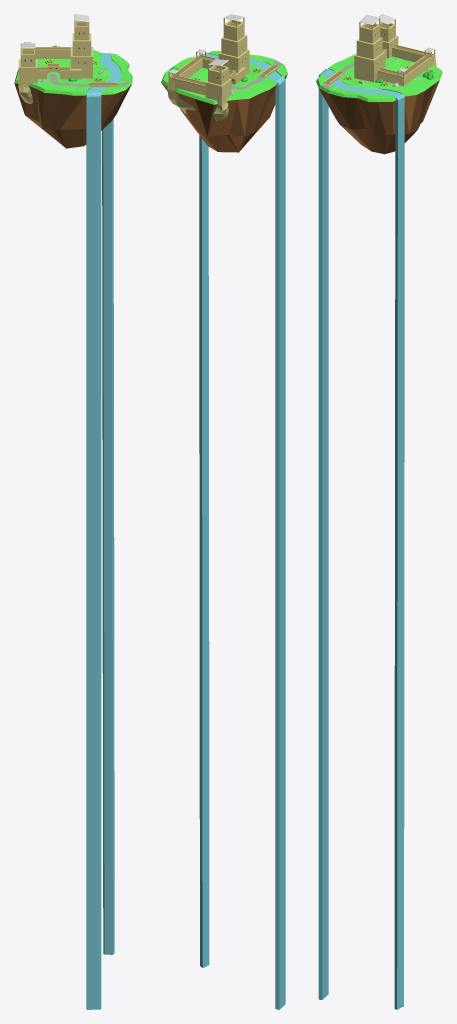
The model's file is low poly floating island.fbx.
The picture shows the model from 3 angles, left to right: view 1: azimuth 90°, elevation 25°; view 2: azimuth 150°, elevation 25°; view 3: azimuth 330°, elevation 25°; orthographic projection.
Visible parts, largest first — view 1: island, castle; view 2: island, castle; view 3: island, castle.
Boxes of the visible parts, bbox=[...] form: island: bbox=[14, 50, 132, 1009]; castle: bbox=[18, 14, 92, 103]; island: bbox=[161, 51, 287, 1009]; castle: bbox=[167, 14, 249, 121]; island: bbox=[316, 54, 442, 1009]; castle: bbox=[354, 14, 436, 86].
Bounding box in the file's own units: 603 × 5856 × 646.
